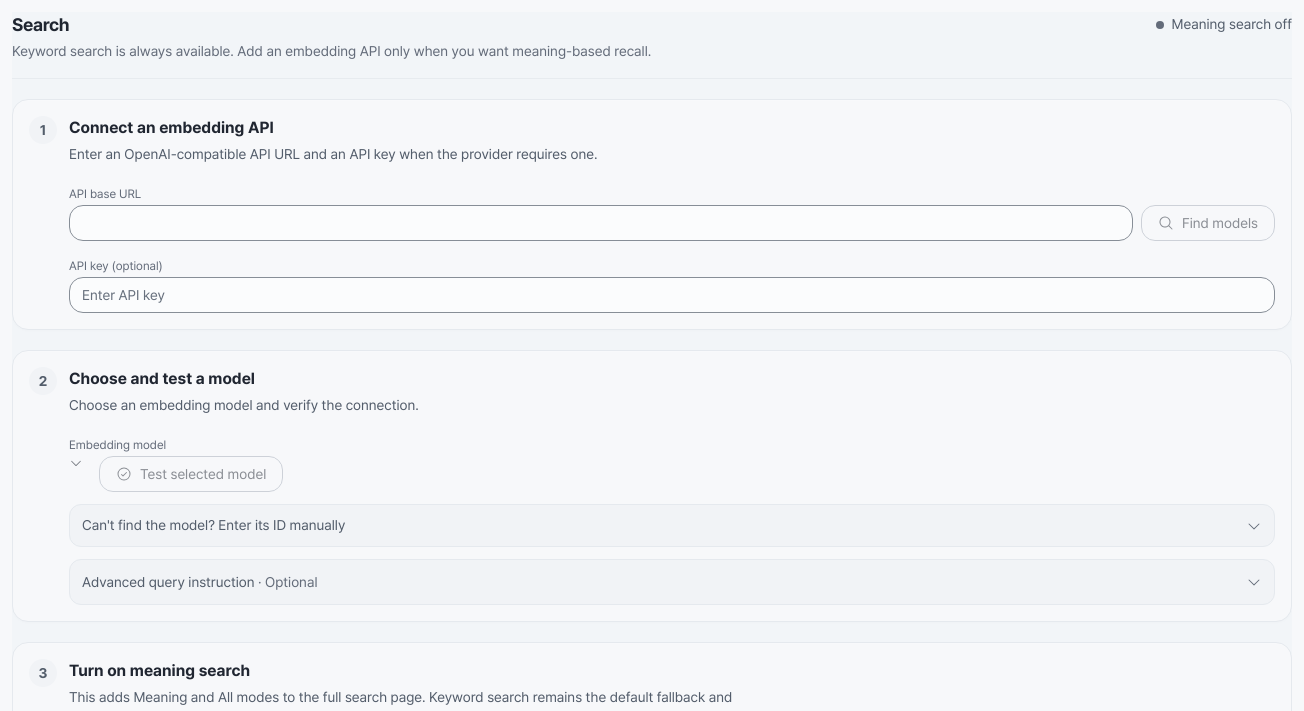
it: <SearchSetting /> › warns without blocking a remote plain HTTP provider
The width and height of the screenshot is (1304, 711).
Type "http://192.168.1.20:1234/v1" into the field labelled "API base URL" at coordinates (601, 223), box x1=69 y1=205 x2=1133 y2=241
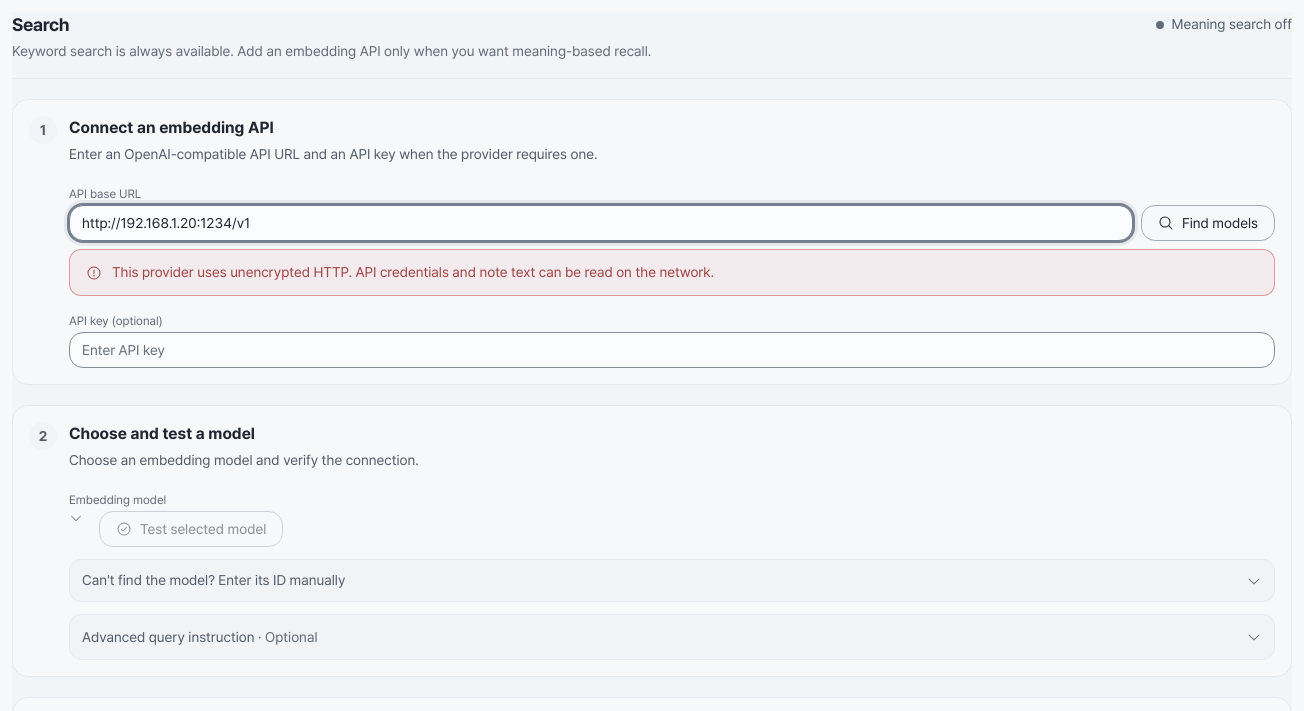
Check: the text "This provider uses unencrypted HTTP. API credentials and note text can be read on the network." is shown, box x1=112 y1=264 x2=714 y2=280
Check: the button "Find models" is enabled, box x1=1141 y1=205 x2=1275 y2=241
